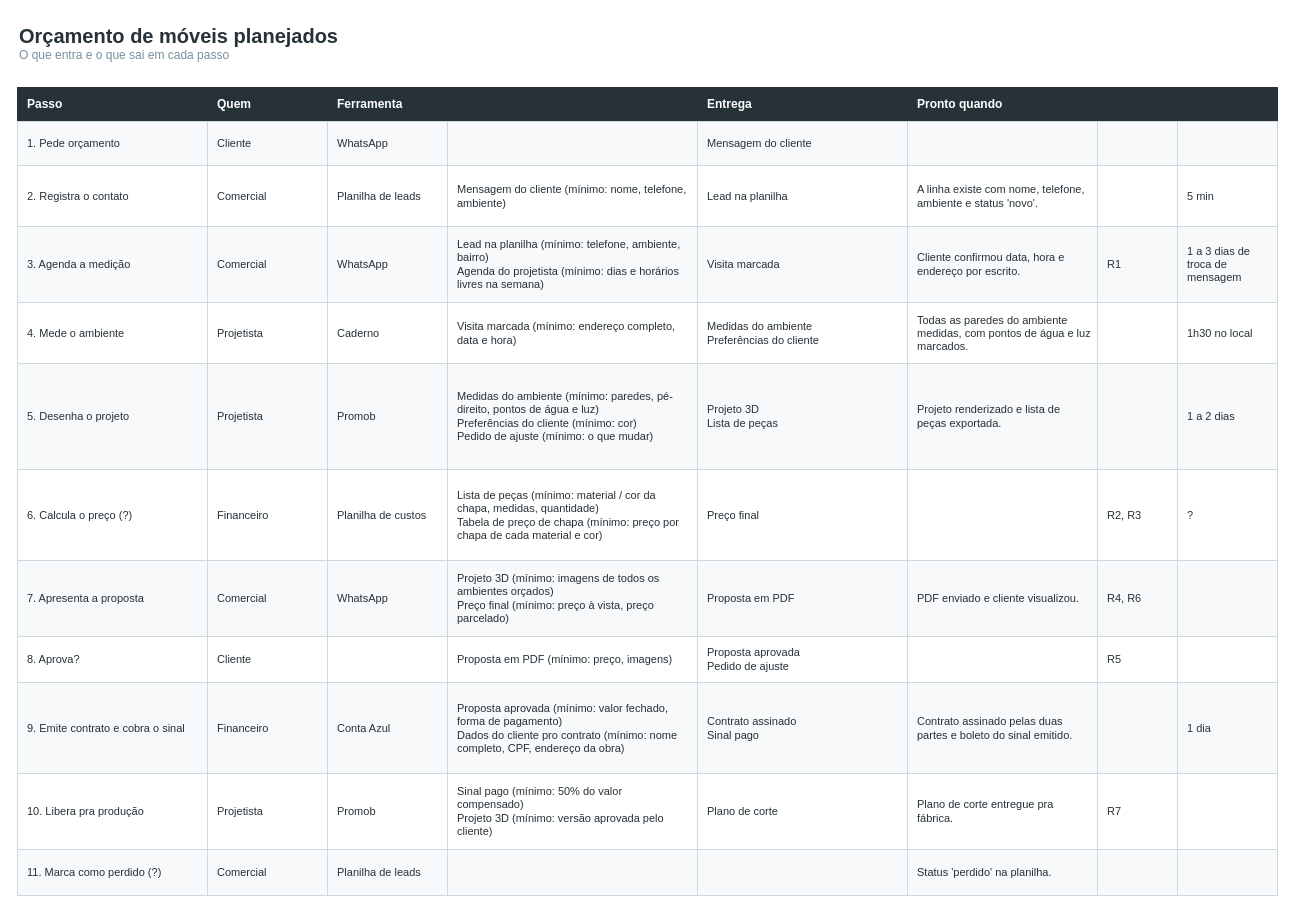
Some shapes in this 1295 by 913 pixel diagram are drawn without their labels. Each missing label, with the centre of its shape:
"Precisa ter pra começar" goes at pixel 572 104.
"Regras" goes at pixel 1137 104.
"Tempo" goes at pixel 1227 104.
